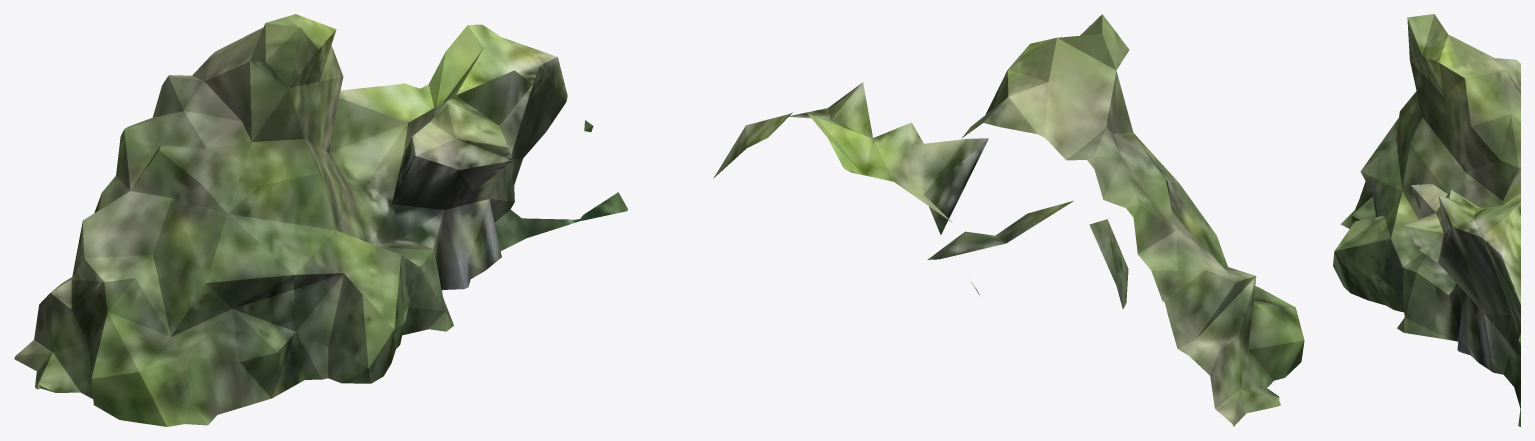
3 views of the same model, side by side, from view 1: azimuth 30°, elevation 25°; view 2: azimuth 150°, elevation 25°; view 3: azimuth 270°, elevation 25° (orthographic). The views are drawn at different scales.
Size of the model in its own units: 13.65 by 6.93 by 4.57.
1 material, 1 textured.
